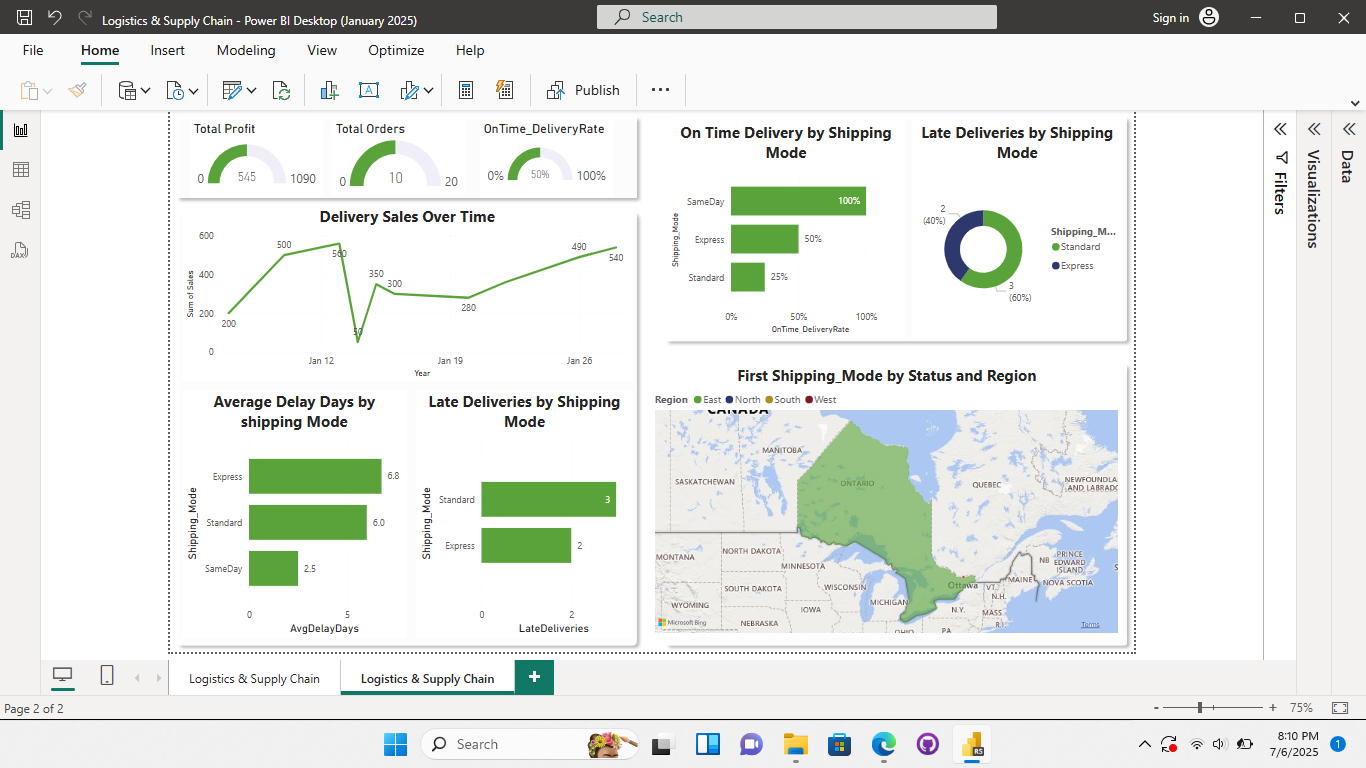

The dashboard page shown, as its layout file describes it:
{"tool":"powerbi","page":{"name":"Logistics & Supply Chain","canvas":[1280,720],"ordinal":1},"visuals":[{"type":"shape","box":[0,125.9,629.3,594.1],"z":0},{"type":"barChart","title":"Average Delay Days by shipping Mode","fields":{"Y":["Sheet1.AvgDelayDays"],"Category":["Sheet1.Shipping_Mode"]},"box":[16.1,371.7,298.5,329.3],"z":1000},{"type":"shape","box":[0,0,629.3,125.9],"z":2000},{"type":"shape","box":[649.8,0,630.7,316.1],"z":3000},{"type":"shape","box":[649.8,327.8,630.7,392.2],"z":4000},{"type":"gauge","fields":{"Y":["Sheet1.Total Profit"]},"box":[26.3,14.6,177.1,99.5],"z":5000},{"type":"gauge","fields":{"Y":["Sheet1.Total Orders"]},"box":[215.1,14.6,177.1,98],"z":6000},{"type":"gauge","fields":{"Y":["Sheet1.OnTime_DeliveryRate"]},"box":[411.2,14.6,177.1,99.5],"z":7000},{"type":"barChart","title":"Late Deliveries by Shipping Mode","fields":{"Y":["Sheet1.LateDeliveries"],"Category":["Sheet1.Shipping_Mode"]},"box":[326.3,371.7,288.3,329.3],"z":8000},{"type":"barChart","title":"On Time Delivery by Shipping Mode","fields":{"Y":["Sheet1.OnTime_DeliveryRate"],"Category":["Sheet1.Shipping_Mode"]},"box":[660,14.6,316.1,286.8],"z":9000},{"type":"lineChart","title":"Delivery Sales Over Time","fields":{"Y":["Sum(Sheet1.Sales)"],"Category":["Sheet1.Delivery_Date.Variation.Date Hierarchy.Year","Sheet1.Delivery_Date.Variation.Date Hierarchy.Quarter","Sheet1.Delivery_Date.Variation.Date Hierarchy.Month","Sheet1.Delivery_Date.Variation.Date Hierarchy.Day"]},"box":[16.1,125.9,598.5,234.1],"z":10000},{"type":"donutChart","title":"Late Deliveries by Shipping Mode","fields":{"Y":["Sheet1.LateDeliveries"],"Category":["Sheet1.Shipping_Mode"],"Series":["Sheet1.Shipping_Mode"]},"box":[986.3,14.6,279.5,286.8],"z":11000},{"type":"filledMap","fields":{"Series":["Sheet1.Region"],"Category":["Sheet1.Status"]},"box":[639.5,338,626.3,362.9],"z":12000}]}

Visuals, with their boxes on the page's 1280x720 design canvas (x1, y1, x2, y2). These are canvas units, not pixel positions in the 1366x768 screenshot, which may show the page scaled, cropped or inside an application window:
shape: 0/126/629/720
"Average Delay Days by shipping Mode" barChart: 16/372/315/701
shape: 0/0/629/126
shape: 650/0/1280/316
shape: 650/328/1280/720
gauge - Sheet1.Total Profit: 26/15/203/114
gauge - Sheet1.Total Orders: 215/15/392/113
gauge - Sheet1.OnTime_DeliveryRate: 411/15/588/114
"Late Deliveries by Shipping Mode" barChart: 326/372/615/701
"On Time Delivery by Shipping Mode" barChart: 660/15/976/301
"Delivery Sales Over Time" lineChart: 16/126/615/360
"Late Deliveries by Shipping Mode" donutChart: 986/15/1266/301
filledMap - Sheet1.Region x Sheet1.Status: 640/338/1266/701
